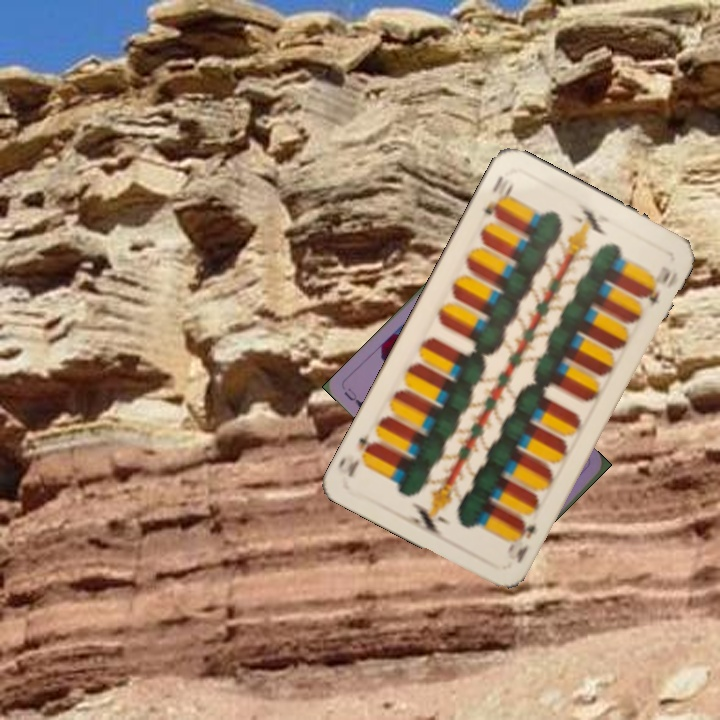E10: (479, 171, 517, 221), (503, 515, 539, 566)
EU: (340, 384, 367, 411)
